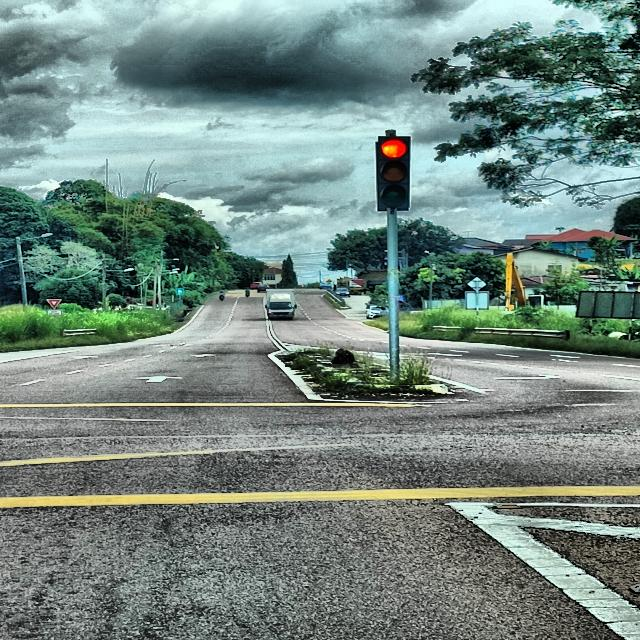red: (378, 136, 412, 210)
